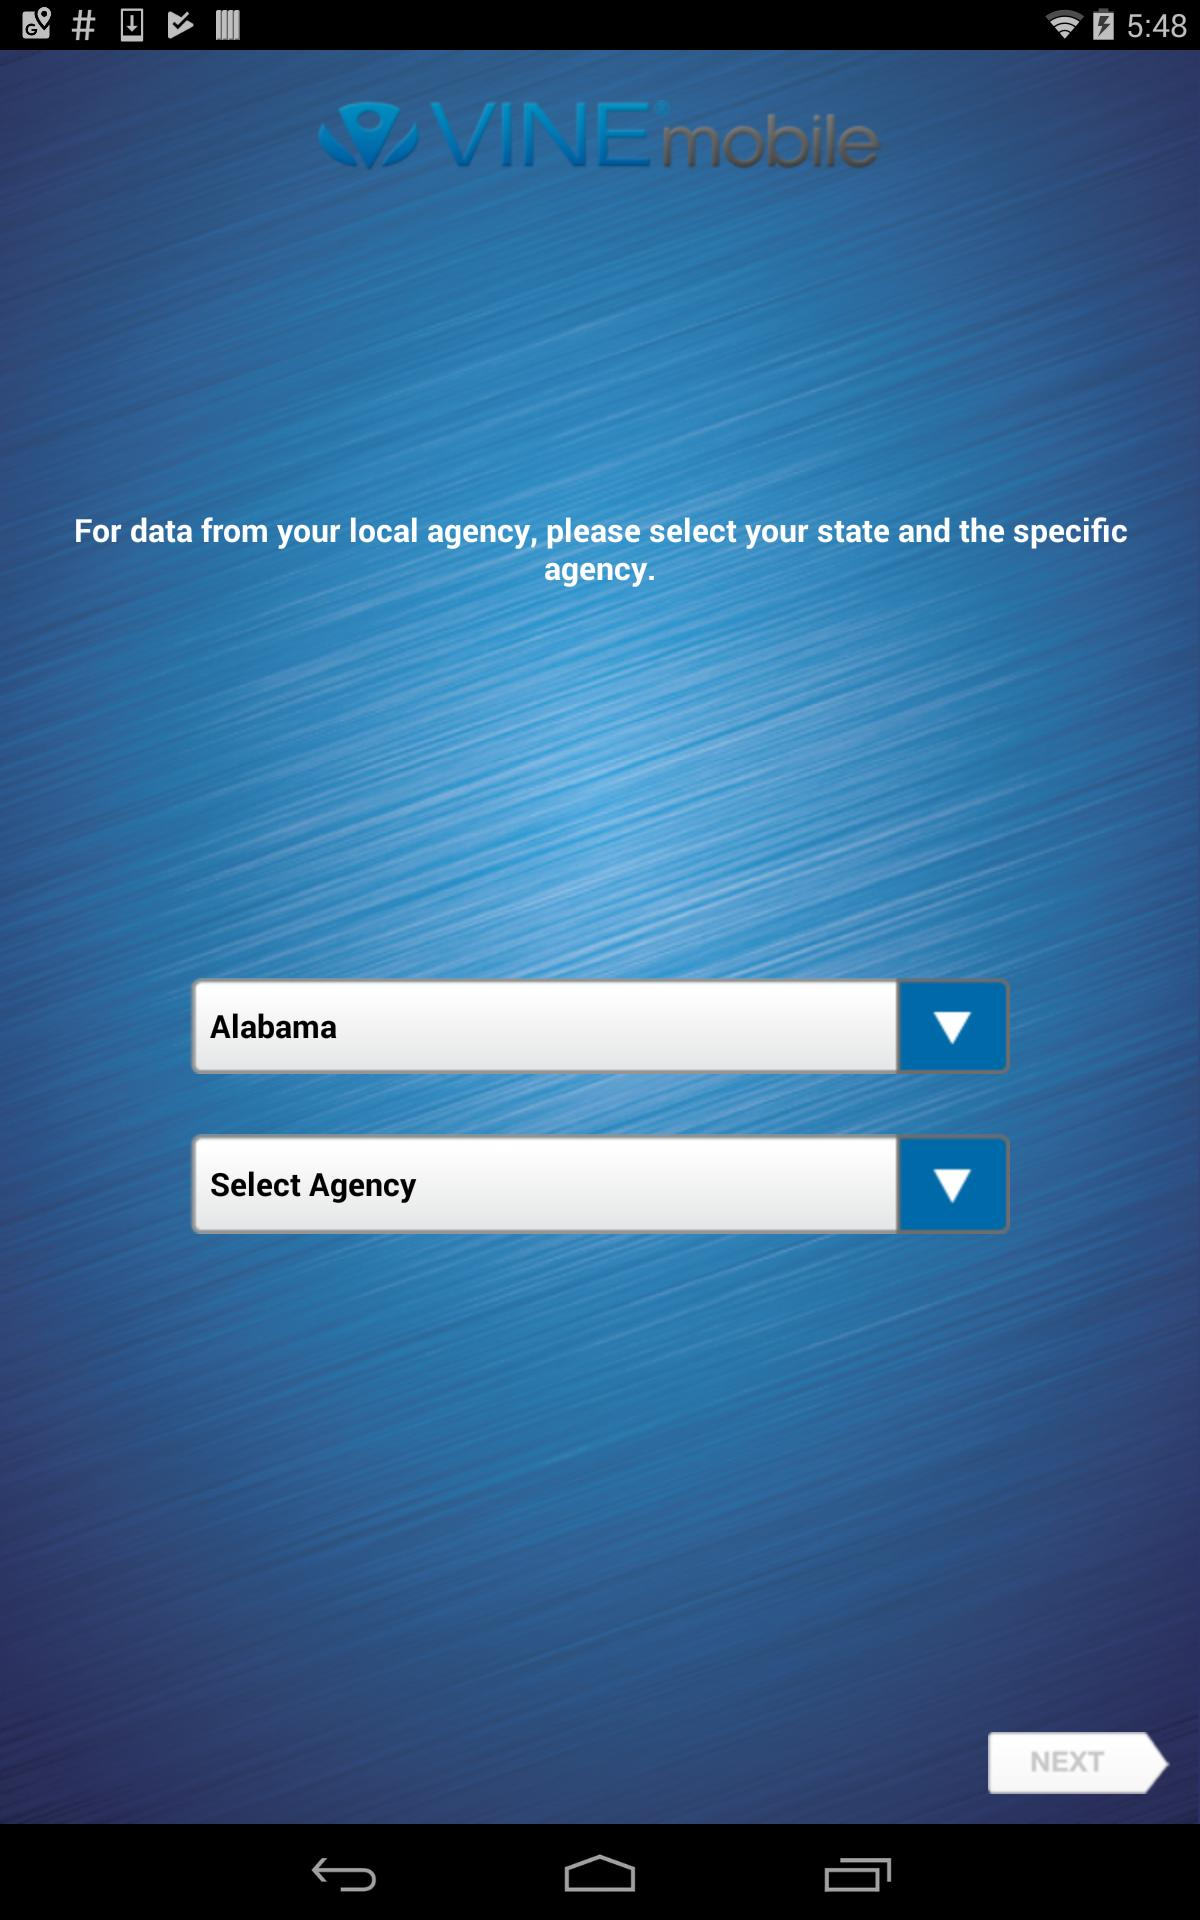android.widget.FrameLayout: (0, 0, 1200, 1825), (0, 50, 1200, 1825)
android.widget.ImageView: (0, 50, 1200, 1825), (318, 100, 882, 170), (988, 1732, 1170, 1794)
android.widget.LinearLayout: (0, 0, 1200, 1825)
android.widget.RelativeLayout: (0, 50, 1200, 1825), (0, 979, 1200, 1825), (0, 80, 1200, 908)
android.widget.TextView: (19, 210, 1181, 887), (189, 1133, 1011, 1234), (189, 979, 1011, 1074)
